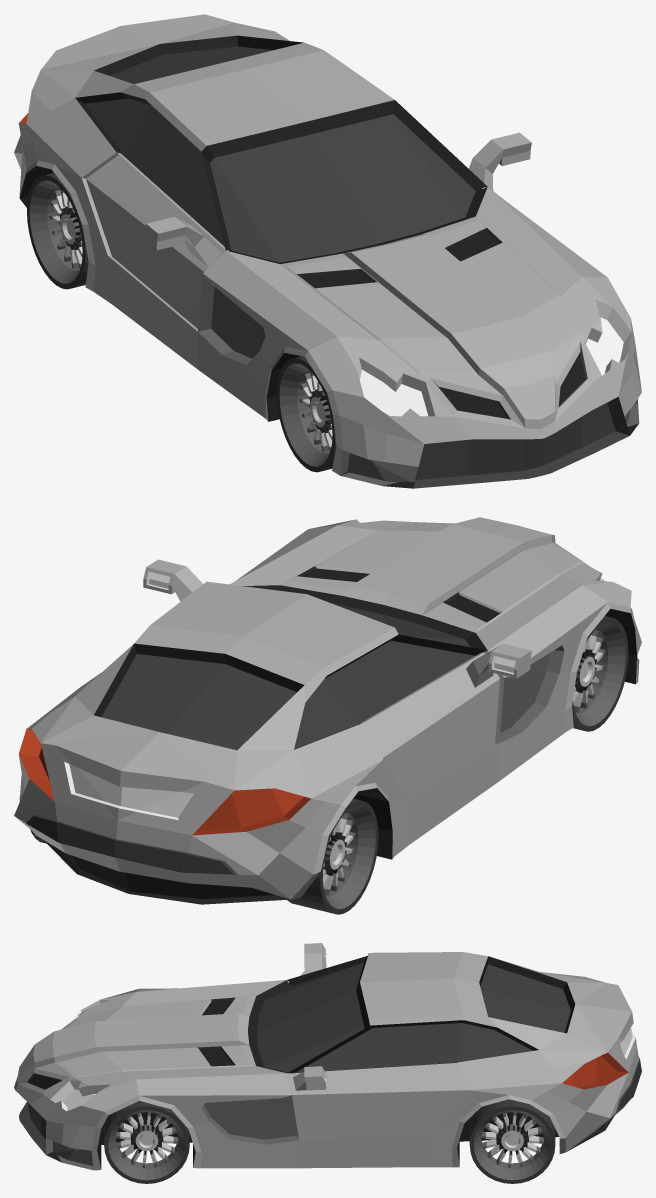
File: mercedesbenzmclarenslr722edition.fbx
3 renders of one model, top to bottom at view 1: azimuth 30°, elevation 25°; view 2: azimuth 150°, elevation 25°; view 3: azimuth 270°, elevation 25°, orthographic. The views are drawn at different scales.
Visible parts, largest first — view 1: WhiteBody, BackRight, FrontRight; view 2: WhiteBody, BackRight, FrontRight; view 3: WhiteBody, BackLeft, FrontLeft.
Boxes of the visible parts, x1,y1,x2,y2 form: WhiteBody: (14, 14, 641, 488); BackRight: (27, 173, 88, 289); FrontRight: (276, 356, 336, 472); WhiteBody: (14, 517, 641, 904); BackRight: (287, 798, 378, 914); FrontRight: (572, 616, 628, 731); WhiteBody: (14, 943, 641, 1170); BackLeft: (469, 1099, 555, 1183); FrontLeft: (104, 1101, 189, 1183).
Bounding box in the file's own units: 2.36 × 4.69 × 1.26.
